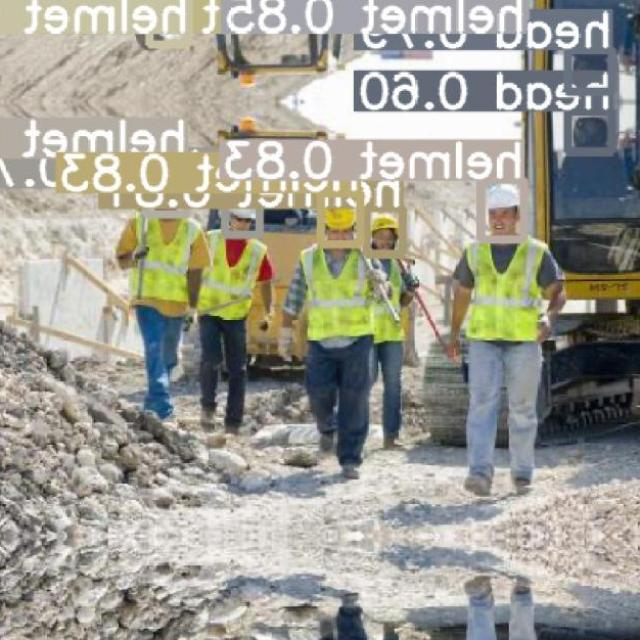helmet: (487, 184, 520, 209), (325, 207, 356, 230), (371, 214, 400, 232)
